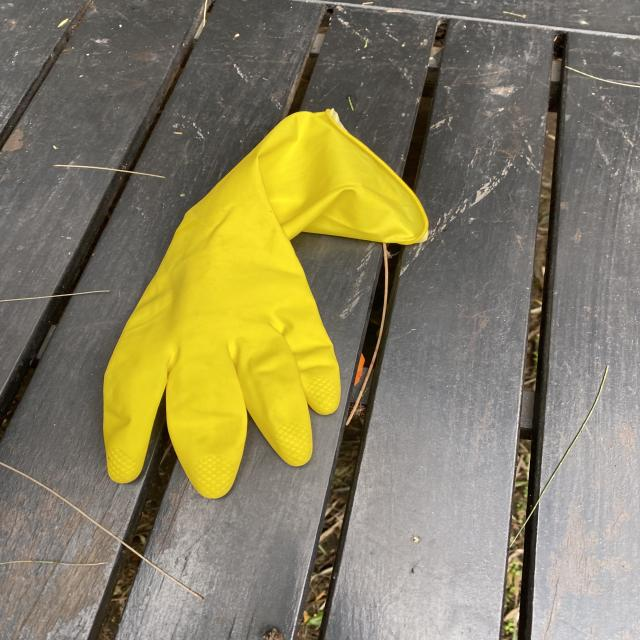glove: (102, 108, 428, 497)
